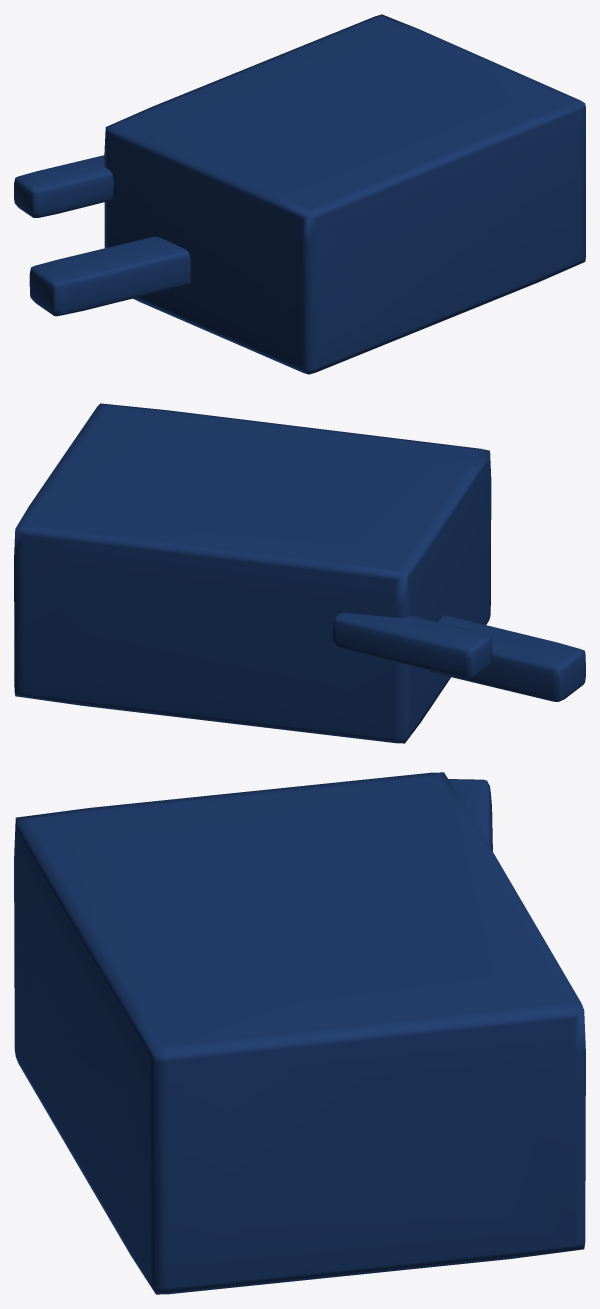
File: mirror_l.glb
3 views of the same model, one above another, from view 1: azimuth 30°, elevation 25°; view 2: azimuth 150°, elevation 25°; view 3: azimuth 270°, elevation 25° (orthographic). The views are drawn at different scales.
Visible parts, largest first — view 1: GEO_Mirror_L; view 2: GEO_Mirror_L; view 3: GEO_Mirror_L.
Part boxes in pixels (x1,y1,x2,y2): GEO_Mirror_L: (14,14,585,374); GEO_Mirror_L: (14,403,585,743); GEO_Mirror_L: (14,772,585,1294).
Bounding box in the file's own units: 0.22 × 0.0699 × 0.1451.
